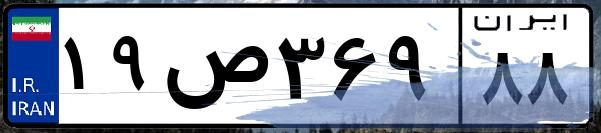1: (57, 26, 110, 100)
3: (270, 28, 330, 110)
6: (330, 28, 385, 110)
8: (475, 38, 525, 113), (525, 38, 570, 115)
9: (385, 28, 445, 110), (110, 28, 158, 98)
ص: (158, 20, 270, 120)
